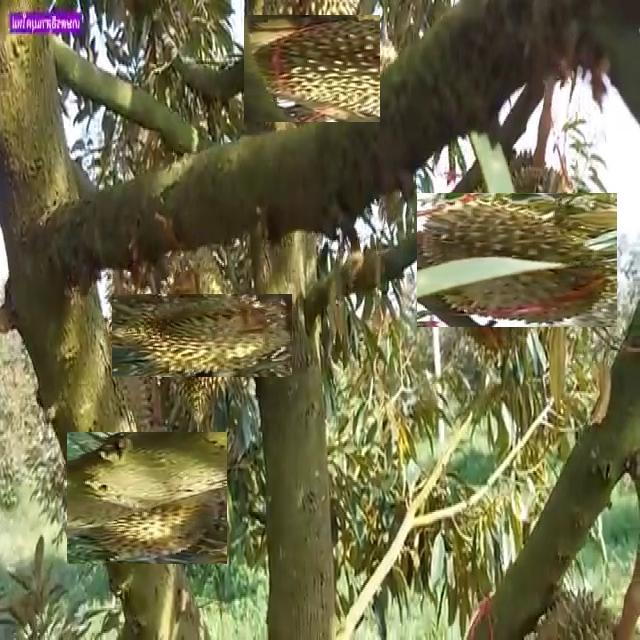durian: (434, 177, 600, 344), (73, 424, 220, 572), (136, 269, 268, 401), (251, 7, 373, 129)
